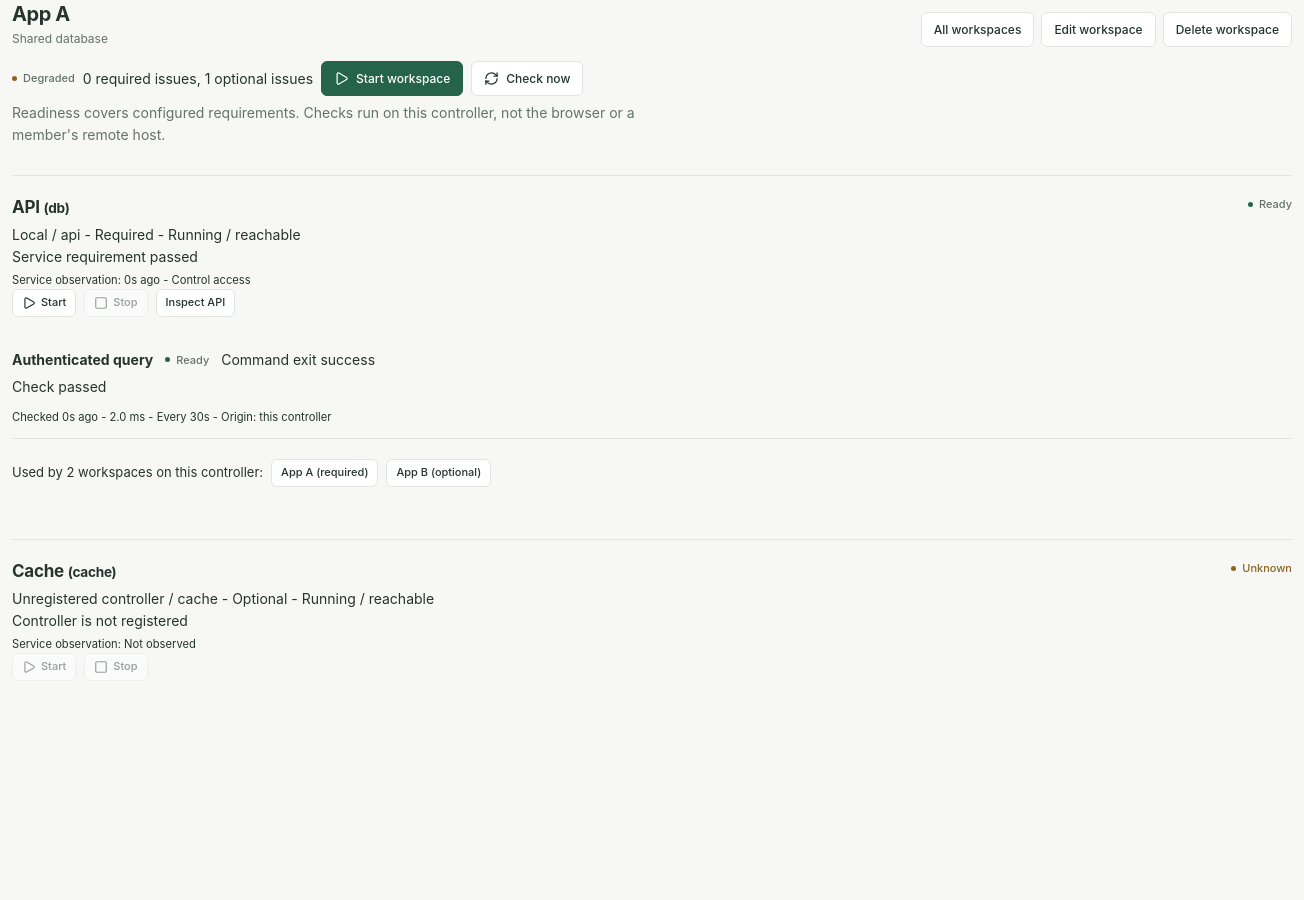
Test: starts a workspace and shows each service outcome without inventing readiness
Click the button "Start workspace" at (392, 78), box [321, 61, 463, 96]
(page scrolled)
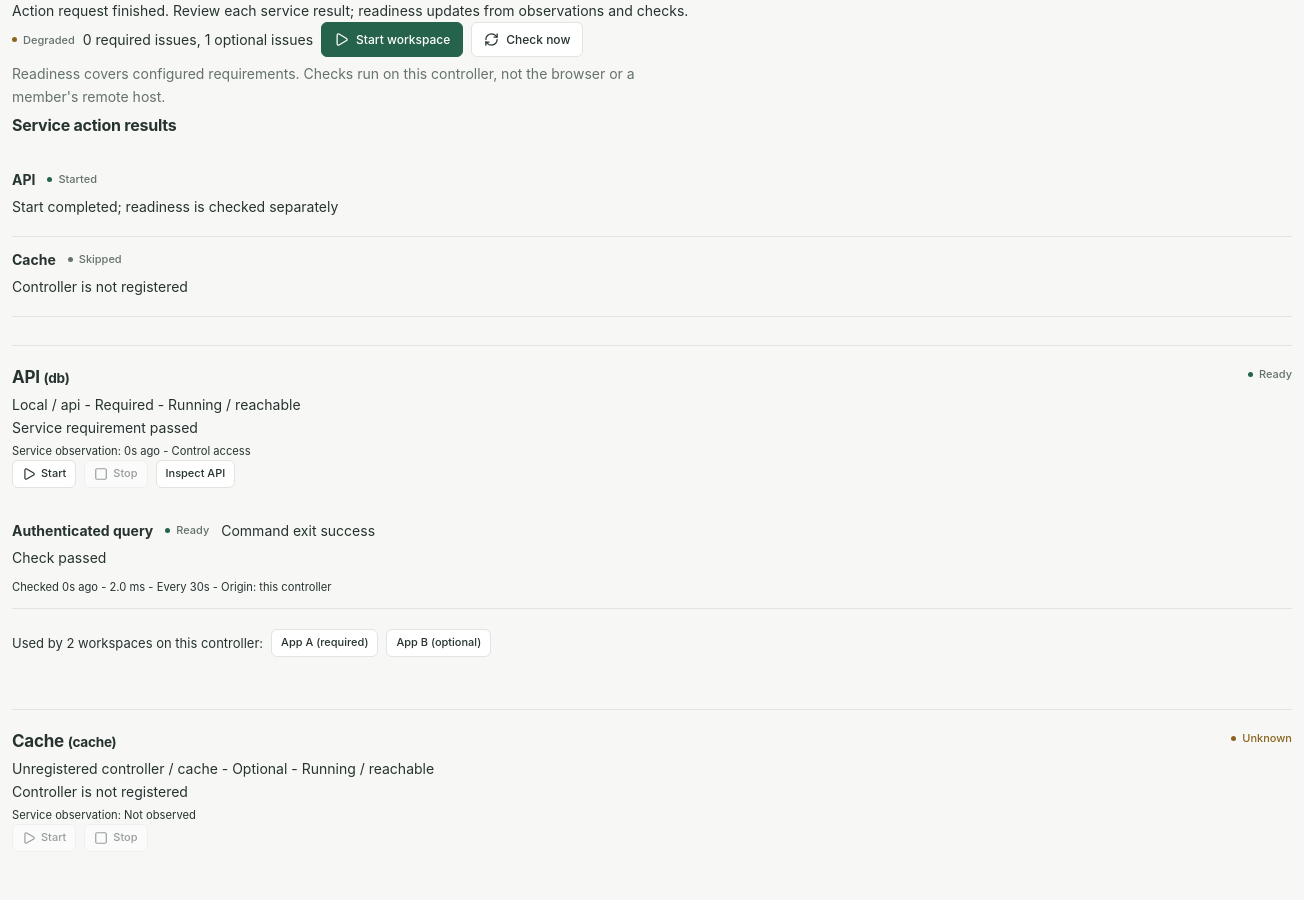
Result: the text "API" is shown at [12, 169, 36, 190]
Result: the text "Started" is shown at [48, 171, 97, 187]
Result: the text "Skipped" is shown at [68, 251, 122, 268]
